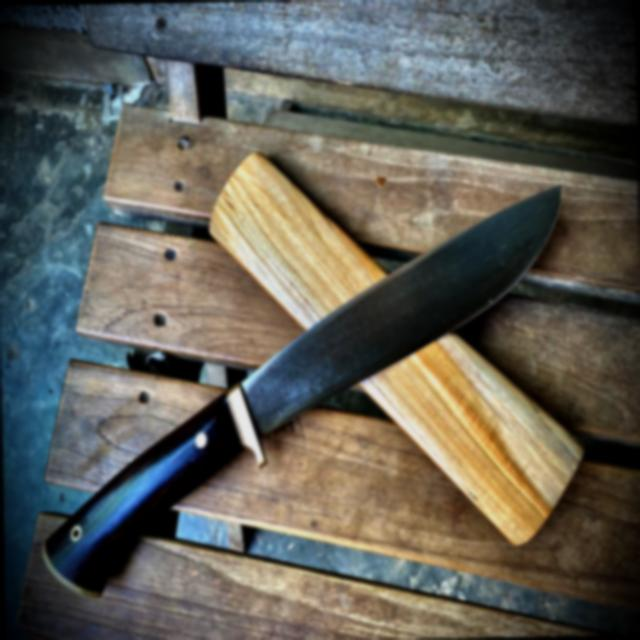short sword: (21, 161, 598, 613)
